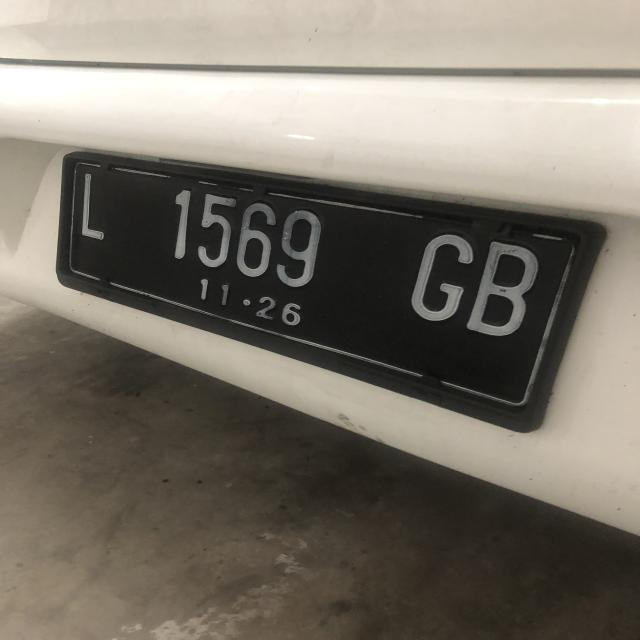1: (168, 188, 195, 262)
5: (194, 196, 233, 270)
6: (233, 203, 280, 277)
9: (274, 207, 328, 286)
B: (465, 238, 545, 340)
G: (410, 234, 474, 318)
L: (79, 164, 107, 247)
